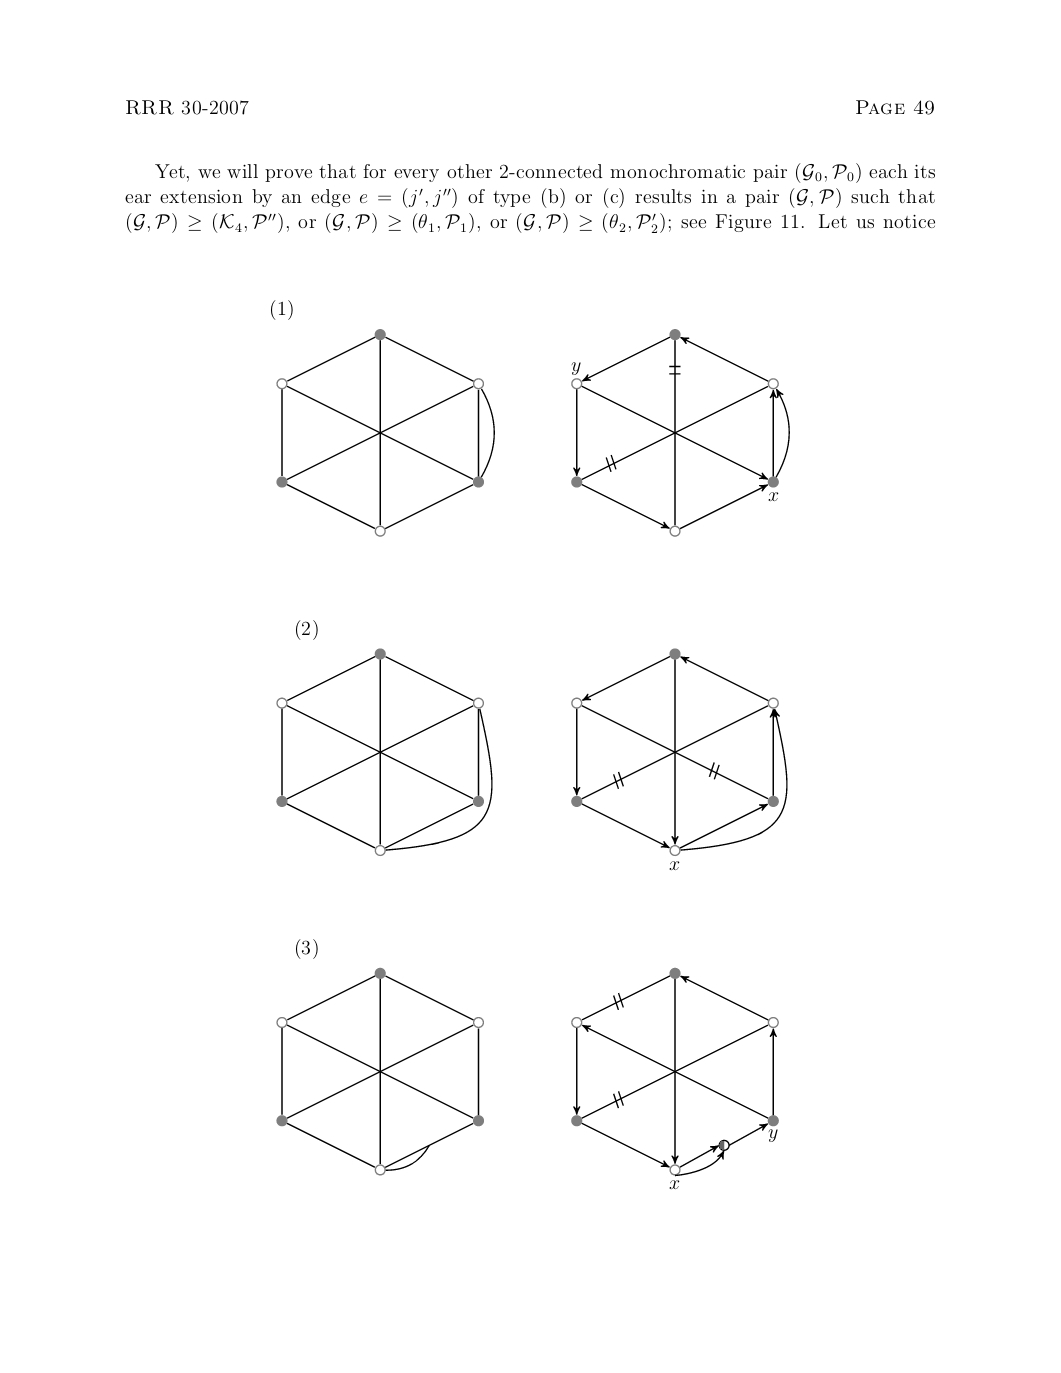figure: (571, 328, 789, 537), (276, 328, 494, 537), (571, 647, 787, 856), (276, 647, 491, 856), (571, 966, 778, 1177), (276, 966, 483, 1176)
